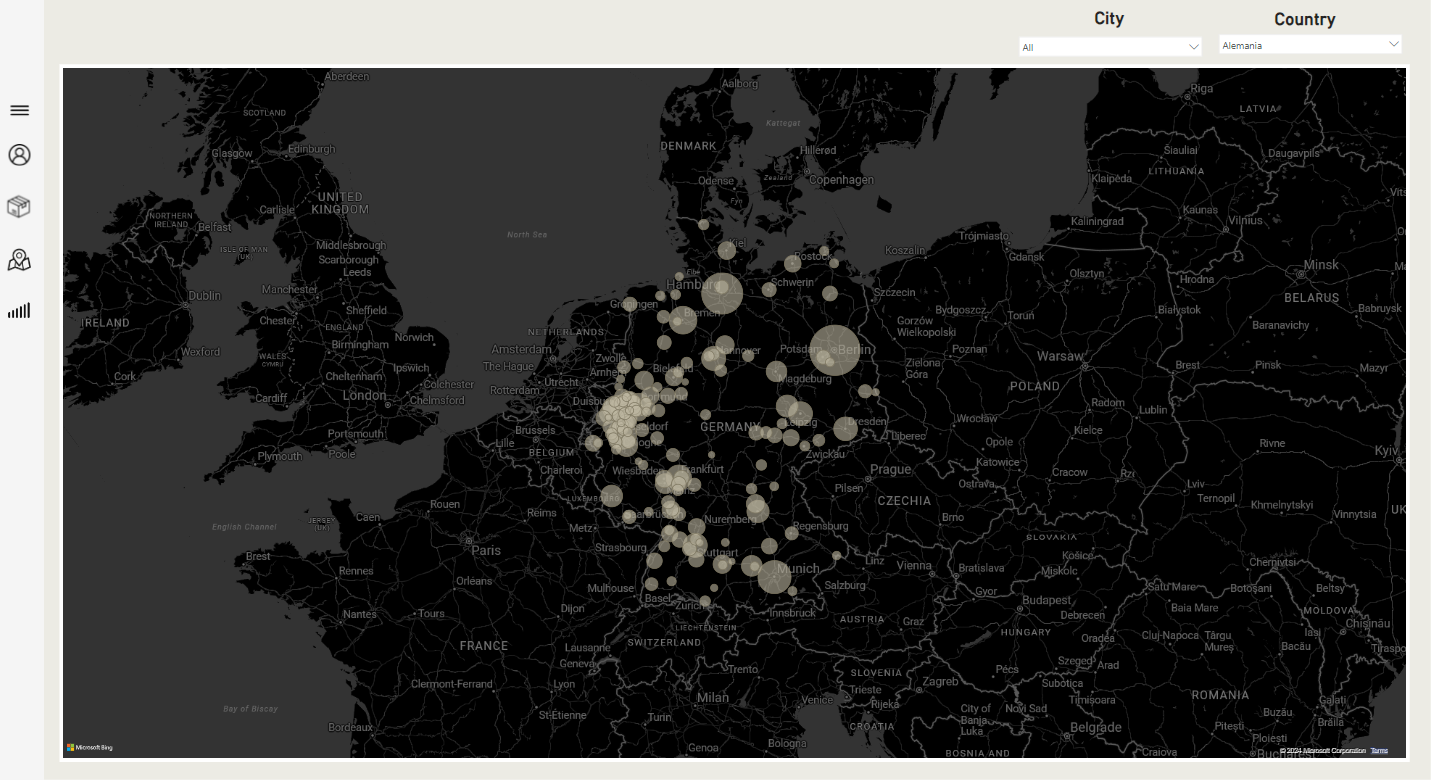

The page's visual inventory and layout, read from the dashboard file:
{"tool":"powerbi","page":{"name":"Map","canvas":[1980,1080],"ordinal":3},"visuals":[{"type":"group","id":"g1","title":"Group 2","box":[1674,40,274,44],"z":0,"group":"g2"},{"type":"map","fields":{"Size":["Measure.Sum of Total Orders"],"Category":["DataCoSupplyChainDataset.Order City","DataCoSupplyChainDataset.Order State","DataCoSupplyChainDataset.Order Country"]},"box":[86,92,1862,962],"z":0},{"type":"actionButton","box":[10.2,122.7,42,66.7],"z":0,"group":"g5"},{"type":"group","id":"g2","title":"Group 1","box":[1674,10,274,74],"z":1000},{"type":"textbox","box":[1756,10,106,48],"z":1000,"group":"g2"},{"type":"actionButton","box":[12.2,186.4,38,60],"z":1000,"group":"g5"},{"type":"group","id":"g3","title":"Group 3","box":[1398,8,274,78],"z":2000},{"type":"group","id":"g4","title":"Group 2","box":[1398,42,274,44],"z":2000,"group":"g3"},{"type":"actionButton","box":[5.9,243.4,49.3,88.6],"z":2000,"group":"g5"},{"type":"textbox","box":[1508,8,80,38],"z":3000,"group":"g3"},{"type":"group","id":"g5","title":"Group 5","box":[4,122.7,54,354.3],"z":3000},{"type":"image","box":[8.4,329,44.5,63],"z":3000,"group":"g5"},{"type":"image","box":[4,389,54,88],"z":4000,"group":"g5"},{"type":"shape","box":[1685.7,50.4,251.4,27.1],"z":10000,"group":"g1"},{"type":"shape","box":[1409.7,52.4,251.4,27.1],"z":10000,"group":"g4"},{"type":"slicer","fields":{"Values":["DataCoSupplyChainDataset.Order Country"]},"box":[1674,40,275,45.6],"z":12500,"group":"g1"},{"type":"slicer","fields":{"Values":["DataCoSupplyChainDataset.Order City"]},"box":[1398,42,275,45.6],"z":12500,"group":"g4"}]}

Visuals, with their boxes on the page's 1980x1080 design canvas (x1, y1, x2, y2). These are canvas units, not pixel positions in the 1431x780 screenshot, which may show the page scaled, cropped or inside an application window:
"Group 2" group: bbox=(1674, 40, 1948, 84)
map - Measure.Sum of Total Orders x DataCoSupplyChainDataset.Order City: bbox=(86, 92, 1948, 1054)
actionButton: bbox=(10, 123, 52, 189)
"Group 1" group: bbox=(1674, 10, 1948, 84)
textbox: bbox=(1756, 10, 1862, 58)
actionButton: bbox=(12, 186, 50, 246)
"Group 3" group: bbox=(1398, 8, 1672, 86)
"Group 2" group: bbox=(1398, 42, 1672, 86)
actionButton: bbox=(6, 243, 55, 332)
textbox: bbox=(1508, 8, 1588, 46)
"Group 5" group: bbox=(4, 123, 58, 477)
image: bbox=(8, 329, 53, 392)
image: bbox=(4, 389, 58, 477)
shape: bbox=(1686, 50, 1937, 78)
shape: bbox=(1410, 52, 1661, 80)
slicer - DataCoSupplyChainDataset.Order Country: bbox=(1674, 40, 1949, 86)
slicer - DataCoSupplyChainDataset.Order City: bbox=(1398, 42, 1673, 88)
